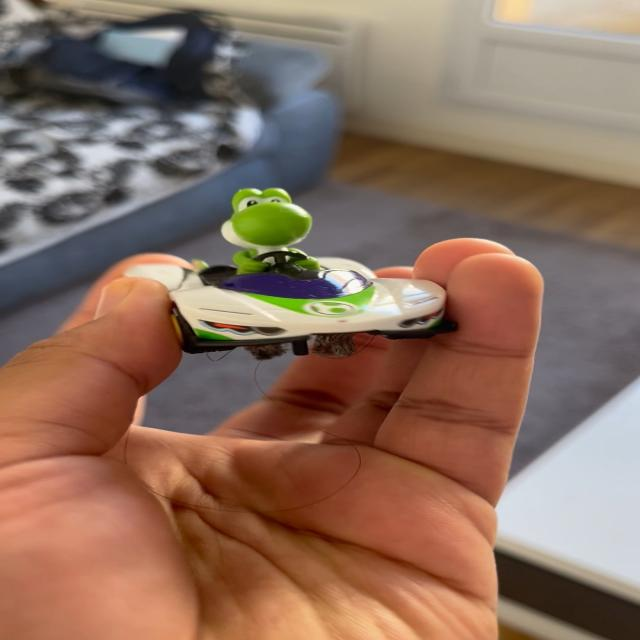yoshi: (135, 171, 470, 350)
